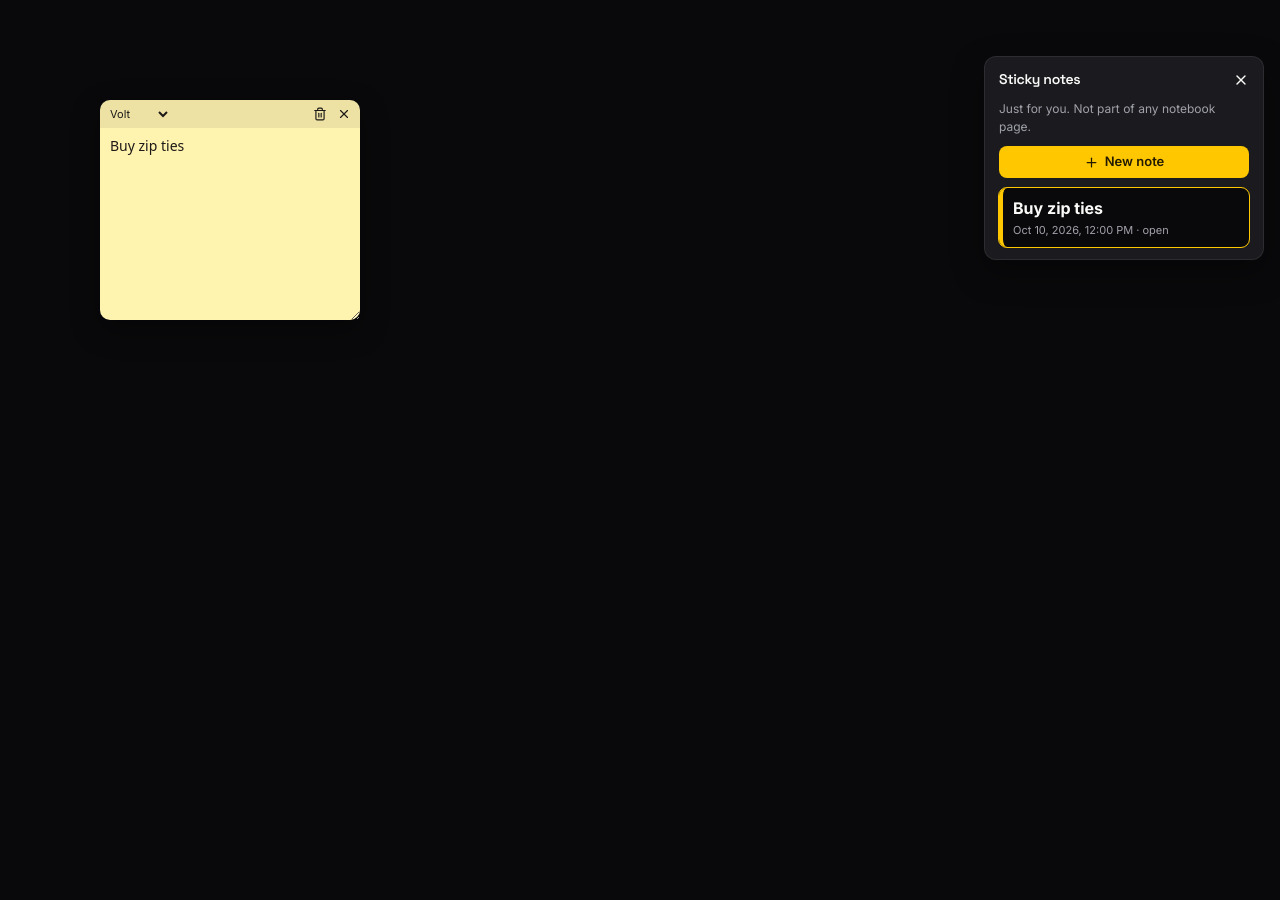
Sticky notes › shows notes Bruno changed after a confirmed card, keeping unsaved typing
The image size is (1280, 900).
Replace the text in the text box named "Note text" with "Buy zip ties and bolts". click: [230, 224]
box: [100,128,360,320]
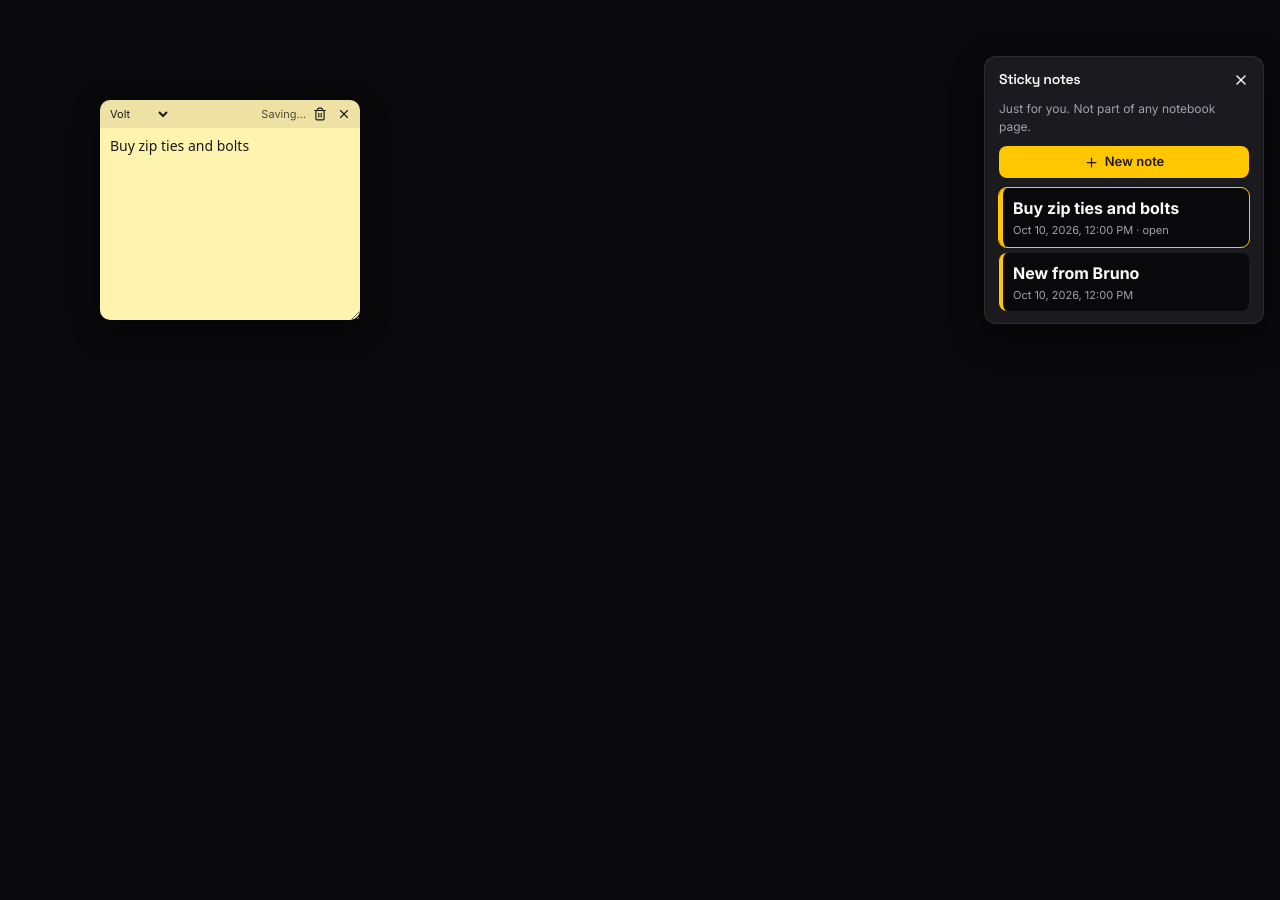
expect the button "New from Bruno Oct 10, 2026, 12:00 PM" is shown: met, box [999,252,1249,311]
